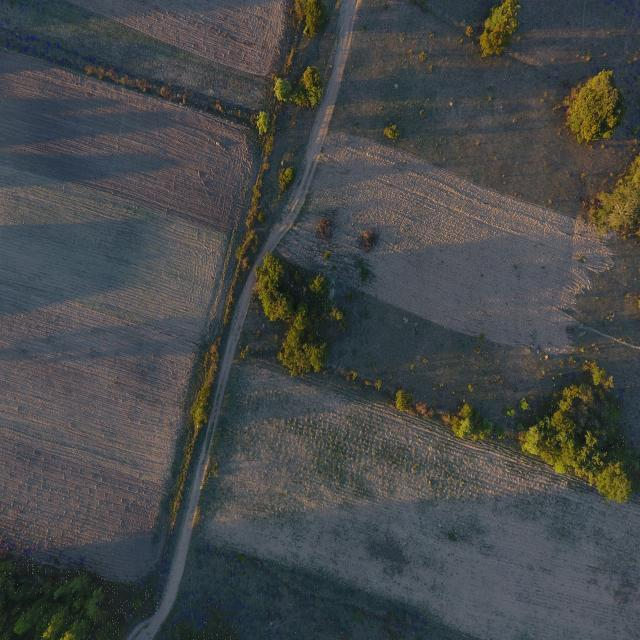boundaries: (46, 32, 251, 142)
